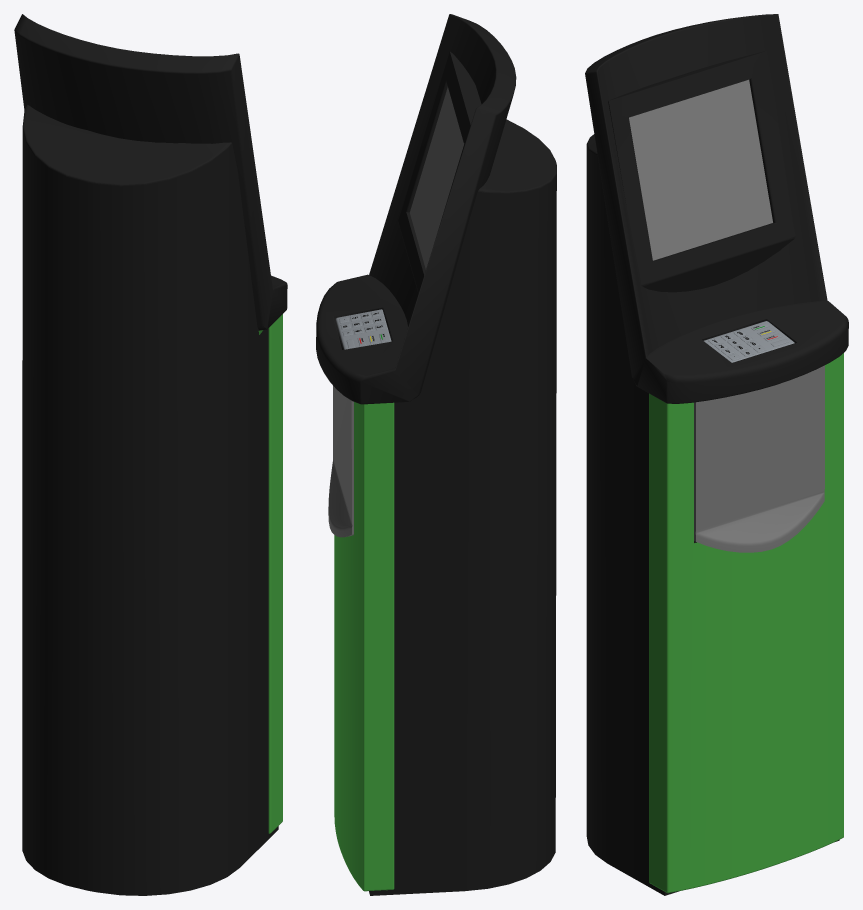
The model's file is банкомат.FBX.
The picture shows the model from 3 angles, left to right: view 1: azimuth 30°, elevation 25°; view 2: azimuth 150°, elevation 25°; view 3: azimuth 270°, elevation 25°; orthographic projection. The views are drawn at different scales.
Parts seen in each view (by area): view 1: Rectangle001, Rectangle005, Rectangle002; view 2: Rectangle001, Rectangle002, Rectangle005, Object001, Rectangle006, Rectangle007, ChamferBox51; view 3: Rectangle002, Rectangle005, Rectangle001, Rectangle007, Object001, Rectangle006, ChamferBox51.
Part boxes in pixels (left/top/right/bottom): Rectangle001: left=22, top=104, right=278, bottom=895; Rectangle005: left=14, top=14, right=287, bottom=330; Rectangle002: left=258, top=314, right=282, bottom=833; Rectangle001: left=369, top=119, right=556, bottom=895; Rectangle002: left=334, top=402, right=394, bottom=891; Rectangle005: left=316, top=14, right=516, bottom=404; Object001: left=409, top=87, right=464, bottom=269; Rectangle006: left=398, top=51, right=481, bottom=293; Rectangle007: left=328, top=386, right=353, bottom=537; ChamferBox51: left=336, top=309, right=391, bottom=349; Rectangle002: left=649, top=353, right=843, bottom=893; Rectangle005: left=585, top=14, right=848, bottom=403; Rectangle001: left=586, top=134, right=839, bottom=895; Rectangle007: left=694, top=365, right=824, bottom=552; Object001: left=629, top=79, right=772, bottom=260; Rectangle006: left=608, top=51, right=795, bottom=292; ChamferBox51: left=704, top=321, right=794, bottom=362.
Bounding box in the file's own units: 479 × 1595 × 483.
